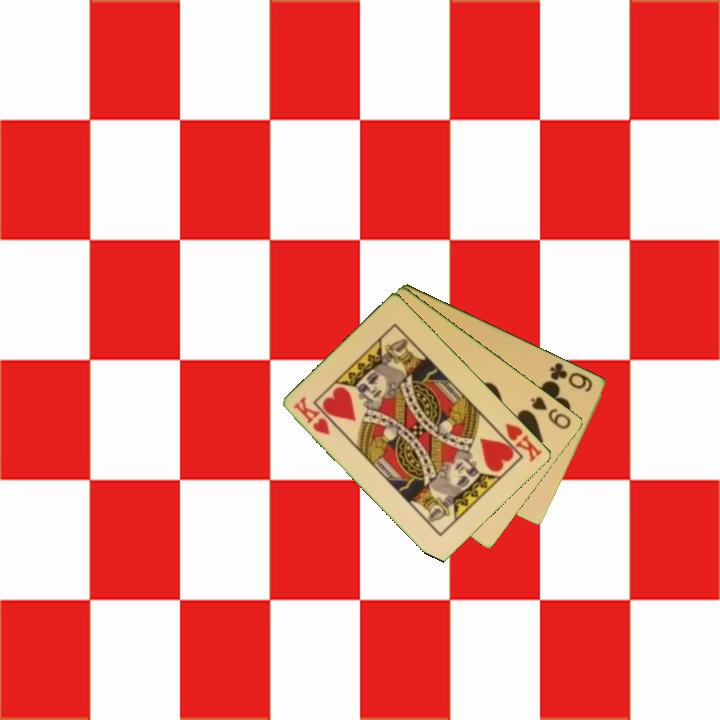6c: (546, 359, 596, 395)
9s: (527, 393, 575, 432)
Kh: (493, 419, 545, 465), (290, 393, 334, 438)
